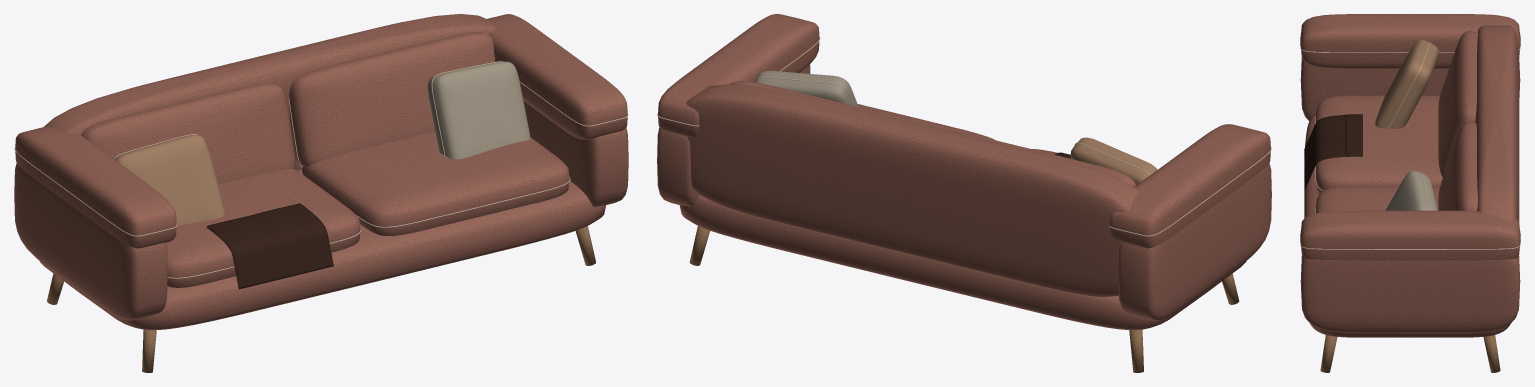
Rendered from traditional.sofa.gltf.
3 views of the same model, side by side, from view 1: azimuth 30°, elevation 25°; view 2: azimuth 150°, elevation 25°; view 3: azimuth 270°, elevation 25° (orthographic). The views are drawn at different scales.
Parts seen in each view (by area): view 1: traditional.sofa.leg; view 2: traditional.sofa.leg; view 3: traditional.sofa.leg.
Part boxes in pixels (x1,y1,x2,y2): traditional.sofa.leg: (14, 14, 628, 372); traditional.sofa.leg: (657, 14, 1271, 372); traditional.sofa.leg: (1300, 14, 1520, 372).
Bounding box in the file's own units: 2.22 × 0.8031 × 0.9464.
6 materials, 4 textured.
